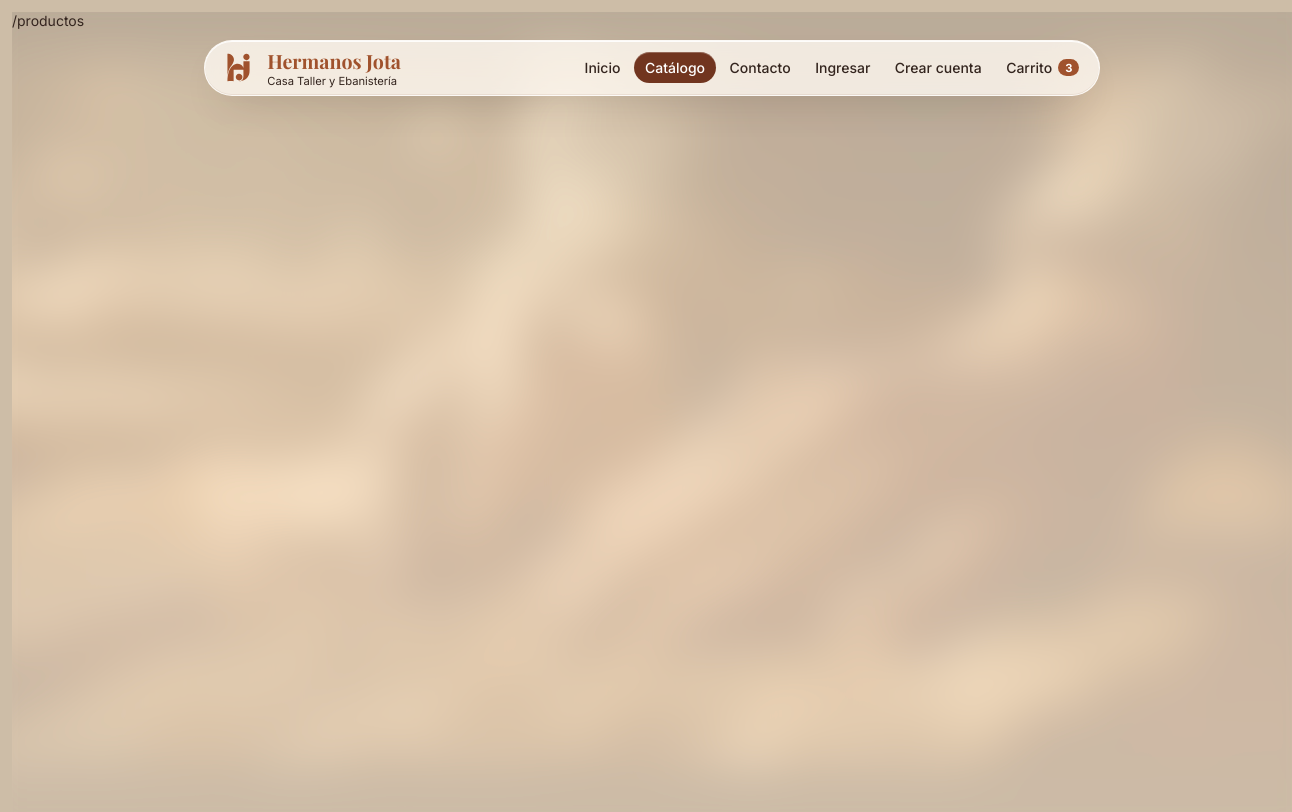
Scenario: Navbar con React Router › marca el enlace activo y permite navegar al carrito
Click the link "Carrito 3": (1043,68) [1006,59,1080,76]
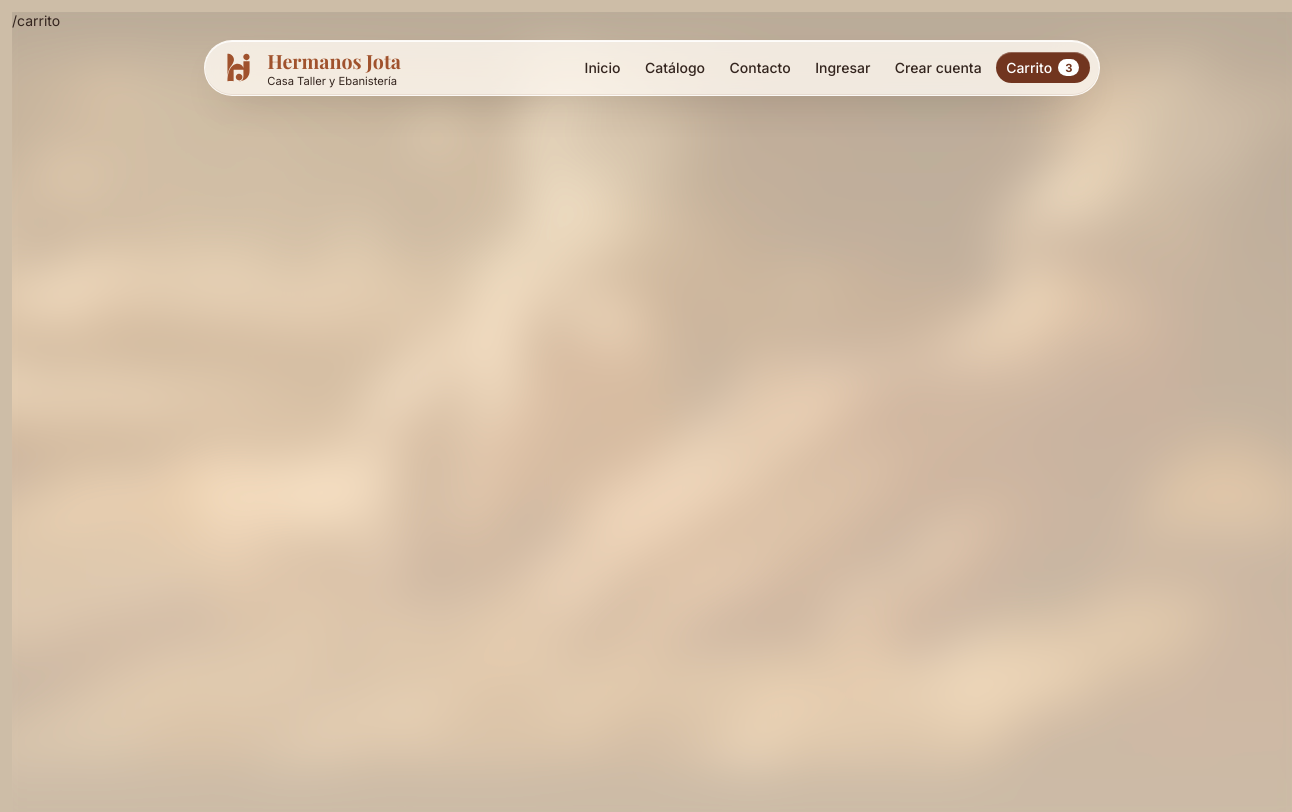
expect the text with test id "current-path" reads "/carrito": met, box [12,12,60,29]
